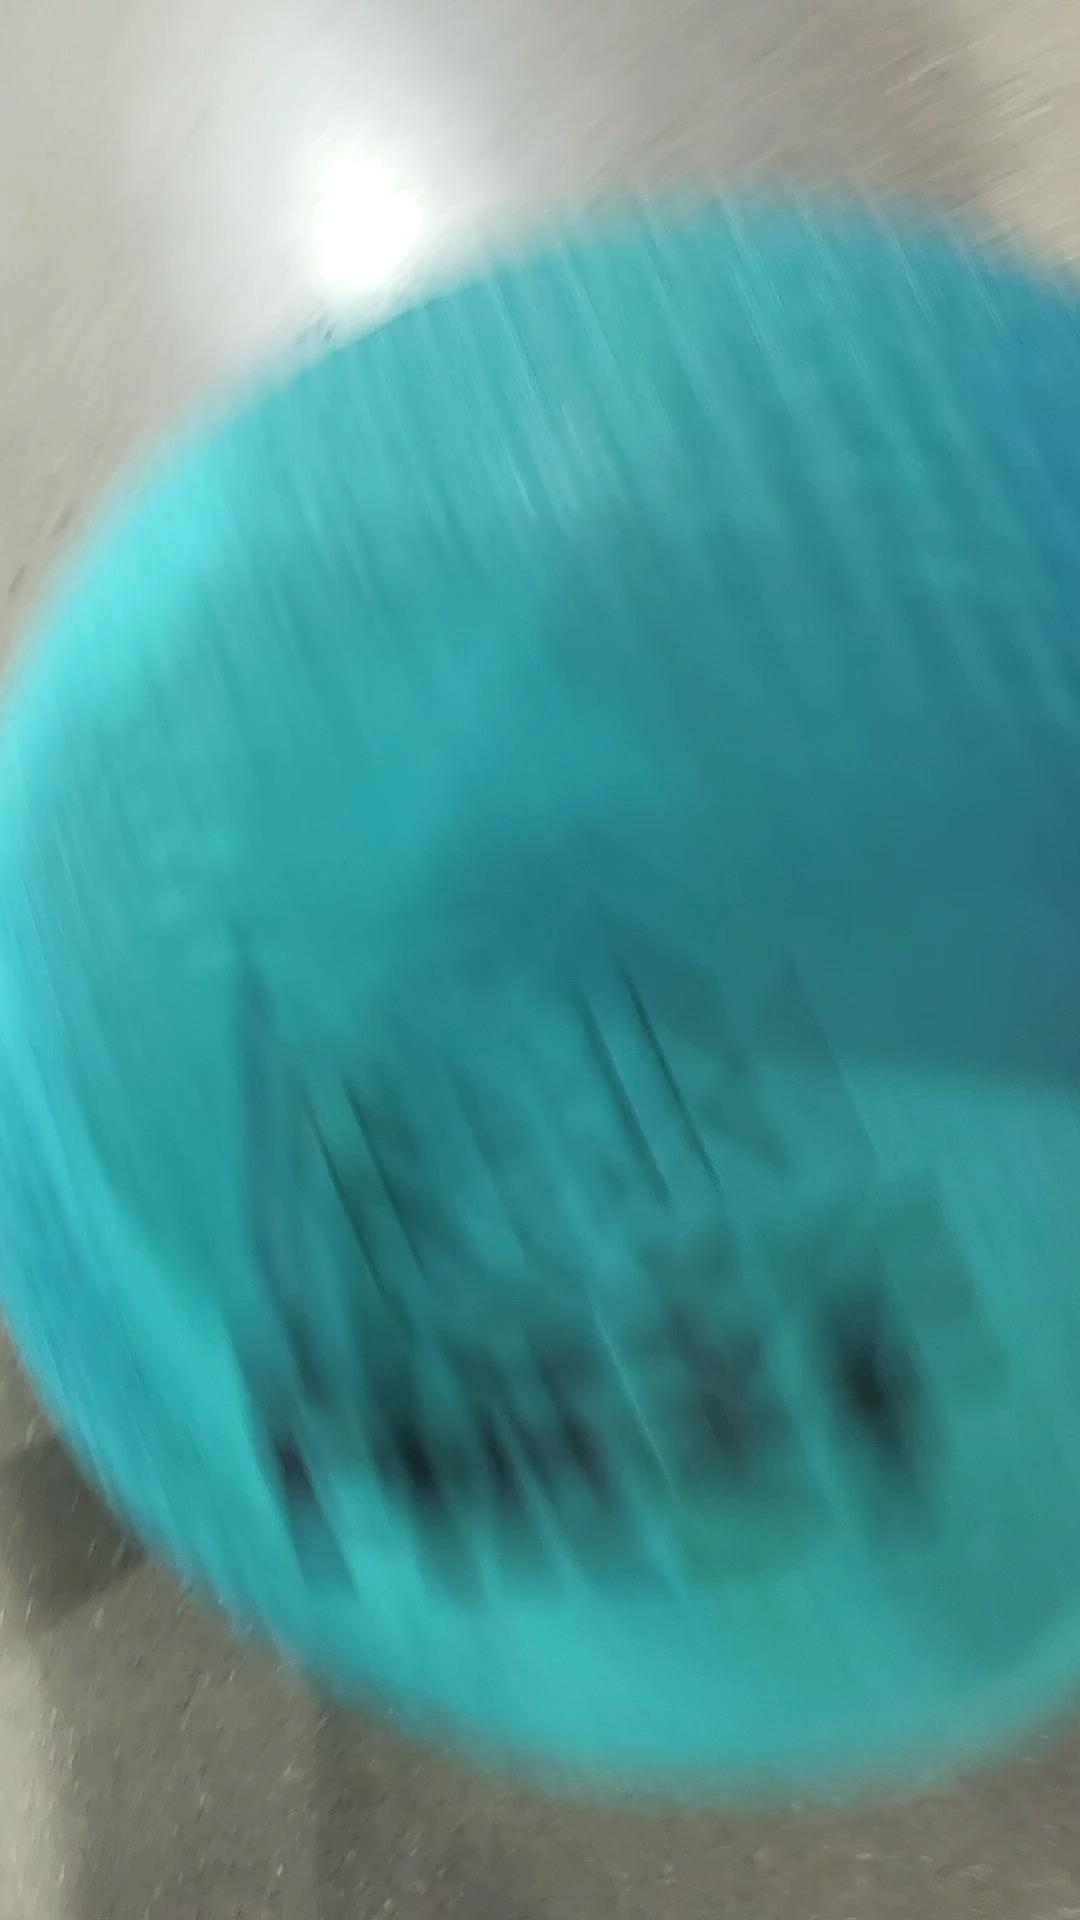algae: (0, 201, 1079, 1797)
